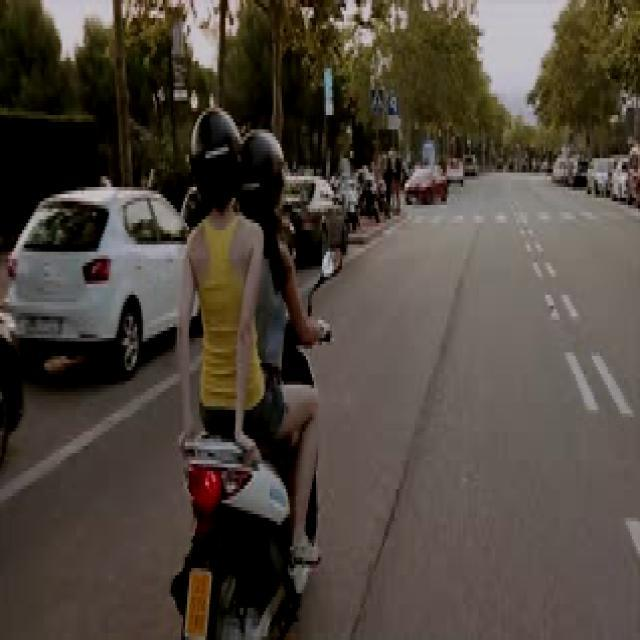Helmet: (190, 100, 240, 208), (241, 129, 288, 216)
